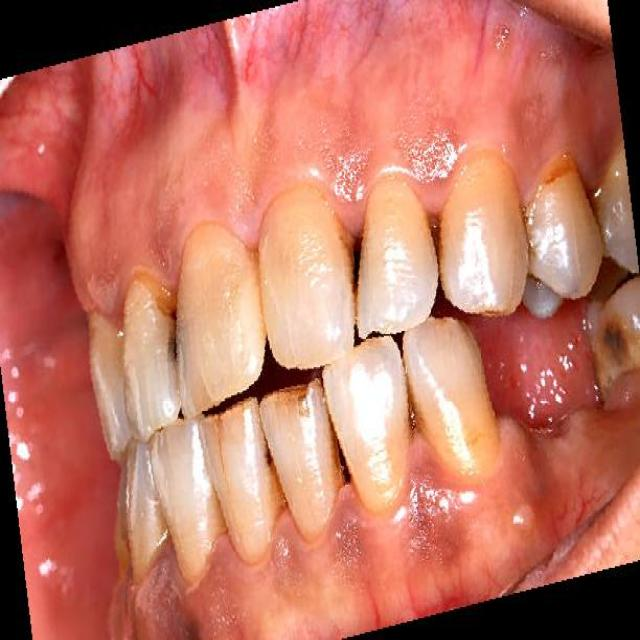caries: (593, 310, 640, 382), (130, 259, 178, 316), (538, 138, 584, 193)
